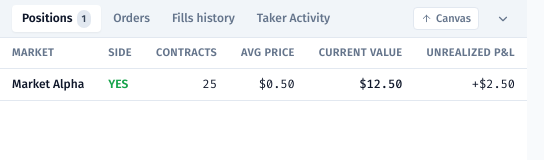
Test: PositionsBar › shows unavailable empty states for non-positions tabs
What coordinates should you click on to do the following:
click the tab "Orders"
I would click on:
 (131, 18)
Its box is [103,5,160,32].
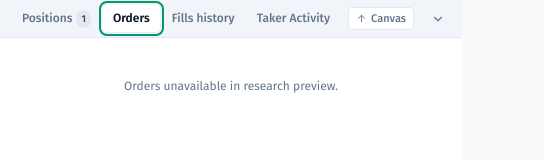
Expected: the text "Orders unavailable in research preview." is shown, [124,79,338,93]
What coordinates should you click on to do the following:
click the tab "Fills history"
I would click on:
 (203, 18)
Its box is [162,5,245,32].
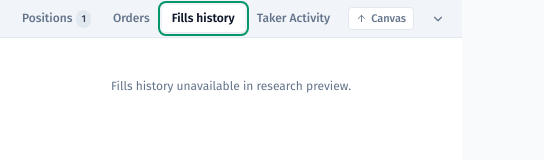
Expected: the text "Fills history unavailable in research preview." is shown, [111,79,351,93]
What coordinates should you click on to do the following:
click the tab "Taker Activity"
I would click on:
 (293, 18)
Its box is [247,5,340,32].
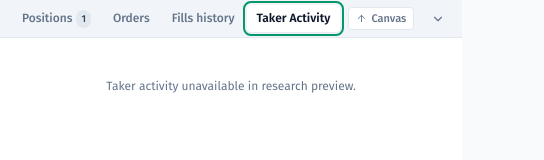
Expected: the text "Taker activity unavailable in research preview." is shown, [106,79,356,93]
